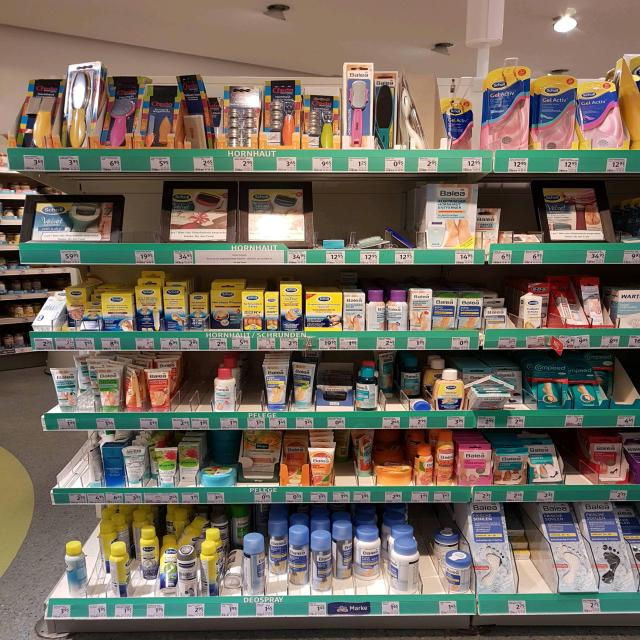empty: (317, 178, 416, 251), (126, 181, 161, 241), (182, 352, 212, 411), (564, 438, 591, 486), (240, 354, 263, 410), (420, 546, 439, 592)
